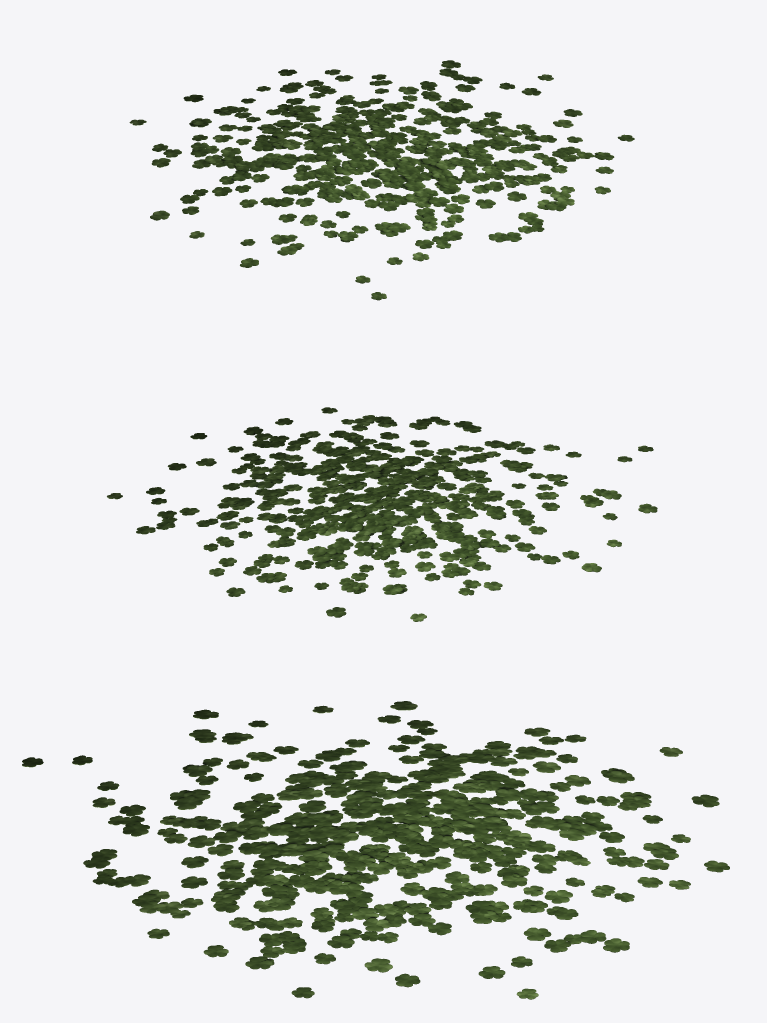
File: lake5.fbx
The picture shows the model from 3 angles, top to bottom: view 1: azimuth 30°, elevation 25°; view 2: azimuth 150°, elevation 25°; view 3: azimuth 270°, elevation 25°; orthographic projection. The views are drawn at different scales.
Parts seen in each view (by area): view 1: Clover-05; view 2: Clover-05; view 3: Clover-05.
Part boxes in pixels (left/top/right/bottom): Clover-05: left=129, top=60, right=634, bottom=300; Clover-05: left=107, top=407, right=657, bottom=621; Clover-05: left=22, top=701, right=729, bottom=999.
Size of the model in its own units: 161 by 6.98 by 161.
